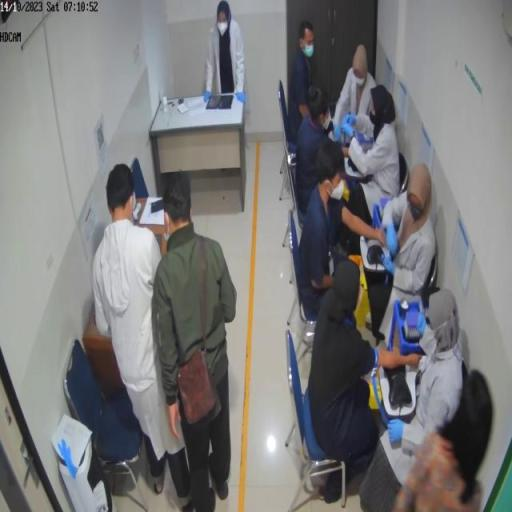person: (93, 167, 189, 502), (152, 170, 238, 510), (308, 260, 424, 500), (369, 288, 465, 455), (394, 369, 495, 512), (299, 140, 388, 297), (361, 164, 438, 305), (346, 86, 401, 226), (297, 85, 335, 223), (203, 2, 248, 110), (334, 45, 377, 140), (289, 22, 317, 151)
